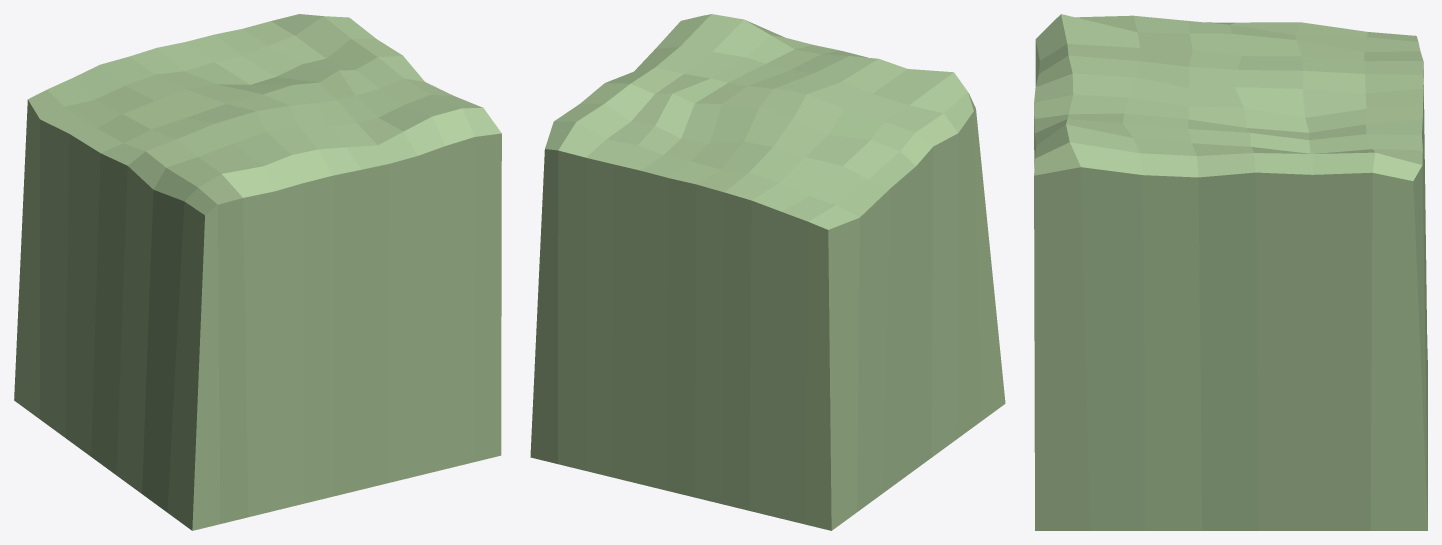
The picture shows the model from 3 angles, left to right: view 1: azimuth 30°, elevation 25°; view 2: azimuth 150°, elevation 25°; view 3: azimuth 270°, elevation 25°; orthographic projection. The views are drawn at different scales.
Visible parts, largest first — view 1: Cube.002; view 2: Cube.002; view 3: Cube.002.
Part boxes in pixels (<box>): Cube.002: <box>14,14,501,530</box>; Cube.002: <box>530,14,1005,530</box>; Cube.002: <box>1034,14,1427,530</box>.
Size of the model in its own units: 2.04 by 2.12 by 2.01.
